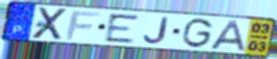A: (209, 19, 247, 52)
E: (104, 13, 141, 44)
F: (64, 11, 103, 41)
G: (180, 17, 215, 49)
J: (142, 16, 170, 45)
X: (30, 7, 71, 41)
